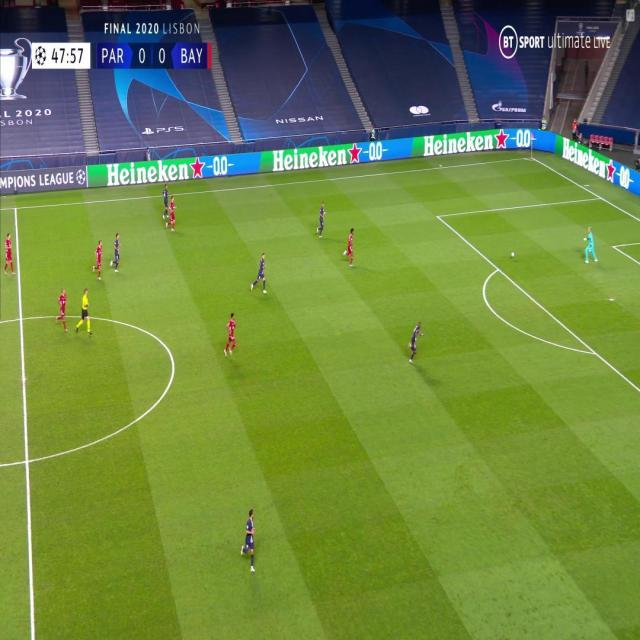ball: (510, 250, 515, 258)
goalkeeper: (582, 225, 598, 264)
player: (240, 507, 259, 574), (406, 319, 425, 364), (251, 252, 268, 294), (224, 311, 238, 359), (342, 226, 357, 266), (55, 287, 68, 333), (3, 231, 15, 277), (110, 232, 123, 274), (92, 239, 105, 280), (315, 200, 327, 239), (160, 184, 171, 220), (166, 195, 176, 230)
referee: (76, 287, 93, 336)
